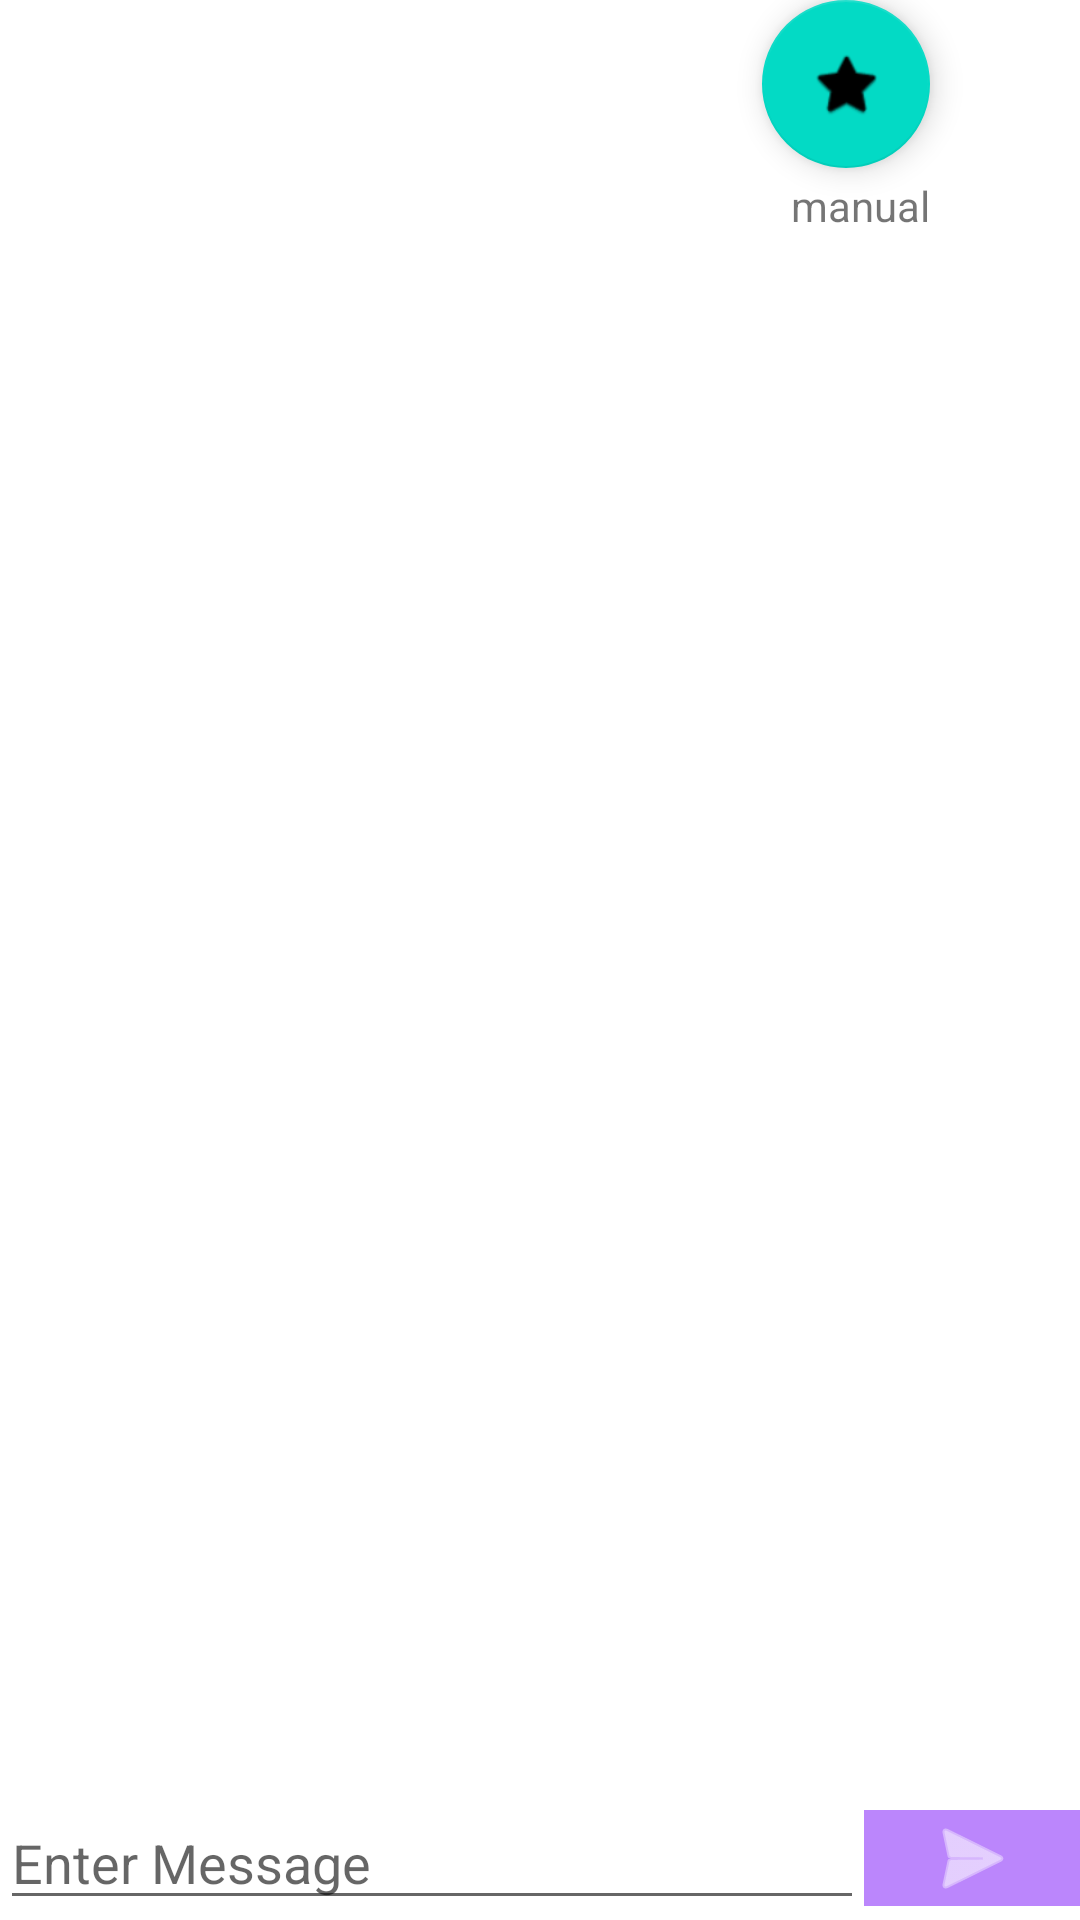

Where icons sit on this 1080px x 1920px app screen, as (x1, y1, x2, y2):
send: (864, 1810, 1080, 1906)
star on: (762, 0, 930, 168)
